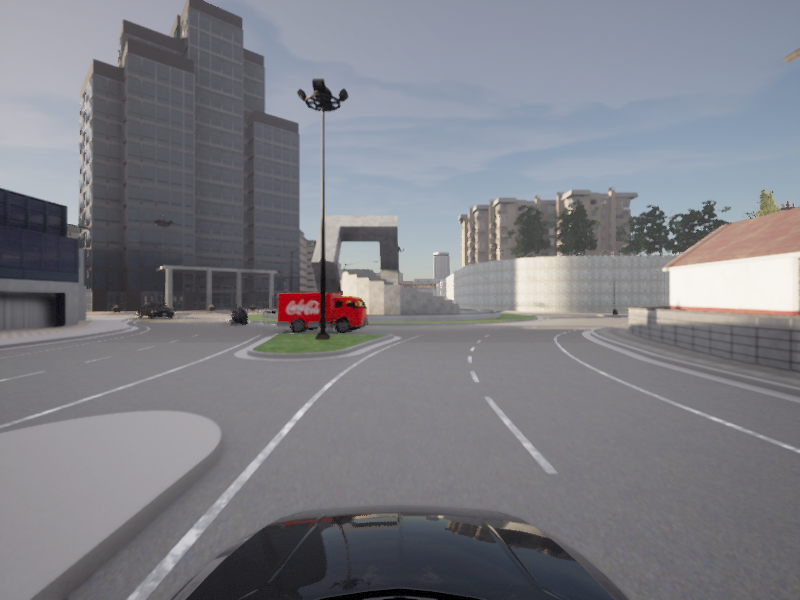vehicle: (275, 292, 370, 334), (136, 303, 176, 319), (225, 306, 252, 326)
